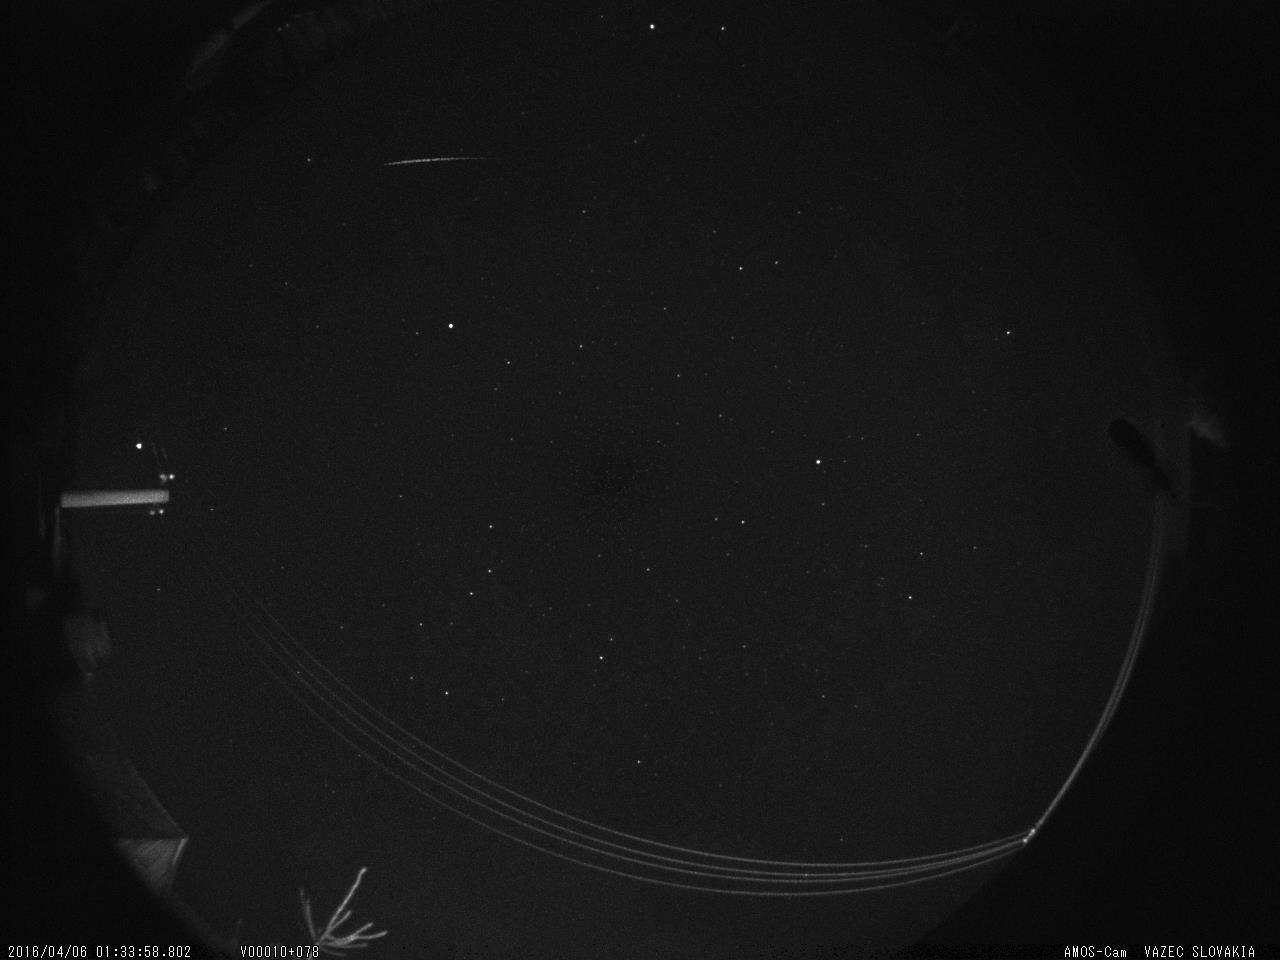Meteor: (374, 151, 491, 174)
